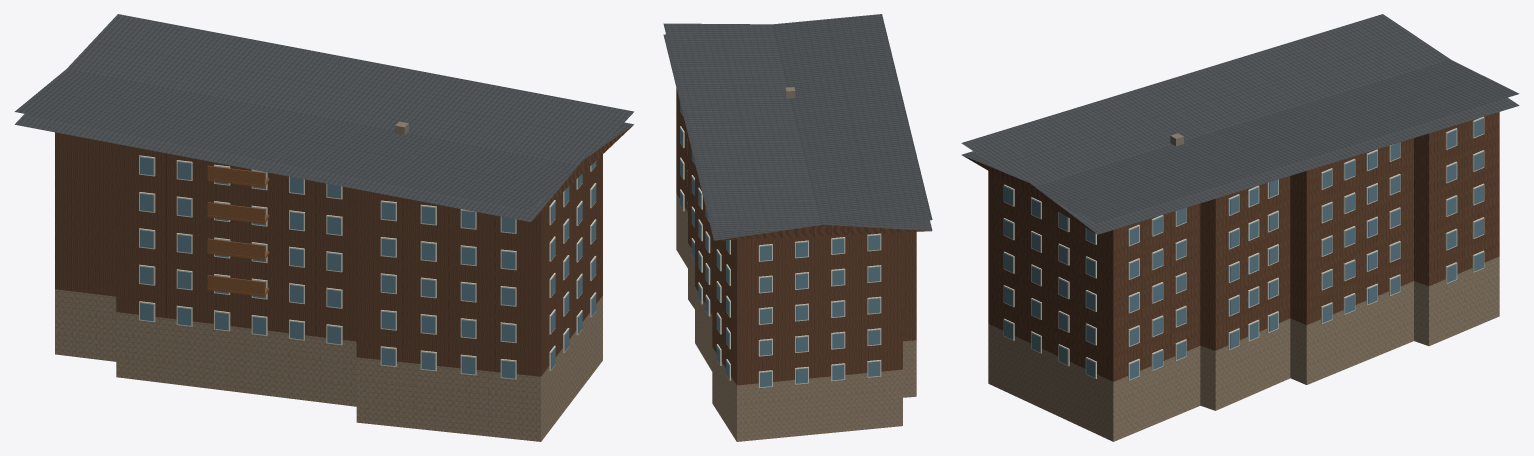
The model's file is core_0007.gltf.
3 renders of one model, left to right at view 1: azimuth 30°, elevation 25°; view 2: azimuth 150°, elevation 25°; view 3: azimuth 270°, elevation 25°, orthographic. The views are drawn at different scales.
Visible parts, largest first — view 1: core_0007; view 2: core_0007; view 3: core_0007.
Part boxes in pixels (x1,y1,x2,y2): core_0007: (14,14,633,441); core_0007: (663,14,932,441); core_0007: (961,14,1519,441).
Bounding box in the file's own units: 38.1 × 19.65 × 43.04.
Materials: 7 (7 with a texture image).
